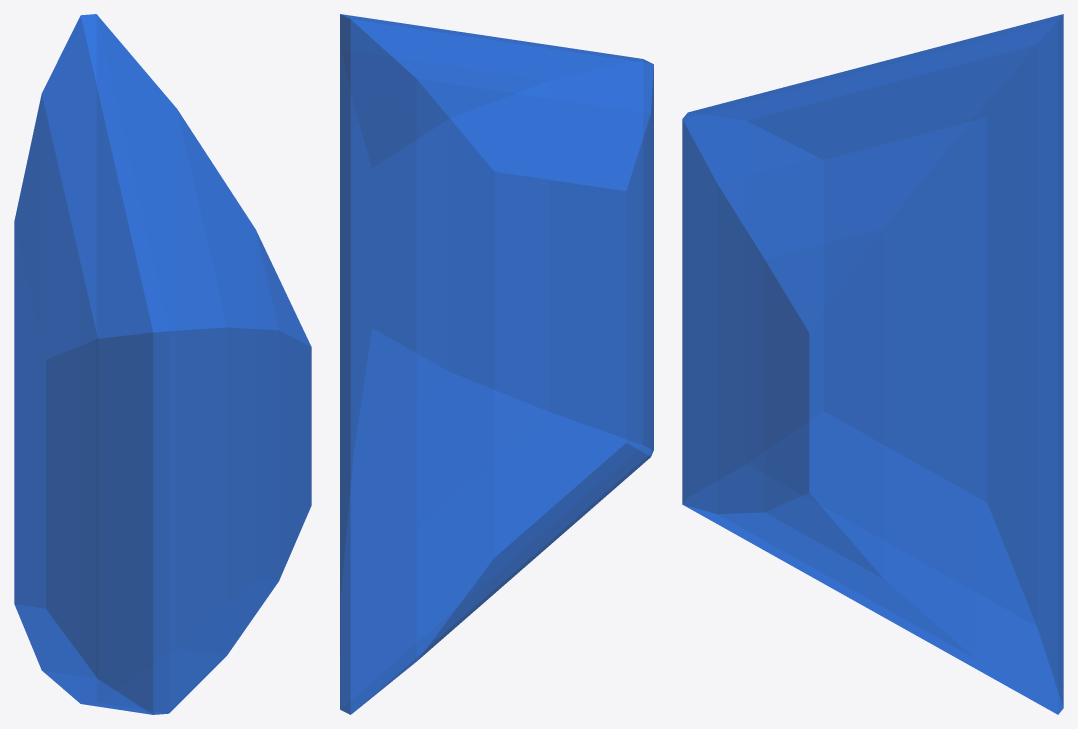
File: trapeze lazulli.glb
3 views of the same model, side by side, from view 1: azimuth 30°, elevation 25°; view 2: azimuth 150°, elevation 25°; view 3: azimuth 270°, elevation 25° (orthographic).
Parts seen in each view (by area): view 1: Trapeze Gemstone.001; view 2: Trapeze Gemstone.001; view 3: Trapeze Gemstone.001.
Part boxes in pixels (x1,y1,x2,y2): Trapeze Gemstone.001: (14, 14, 311, 714); Trapeze Gemstone.001: (340, 14, 653, 714); Trapeze Gemstone.001: (682, 14, 1063, 714).
Bounding box in the file's own units: 0.7447 × 1.89 × 0.9423.
